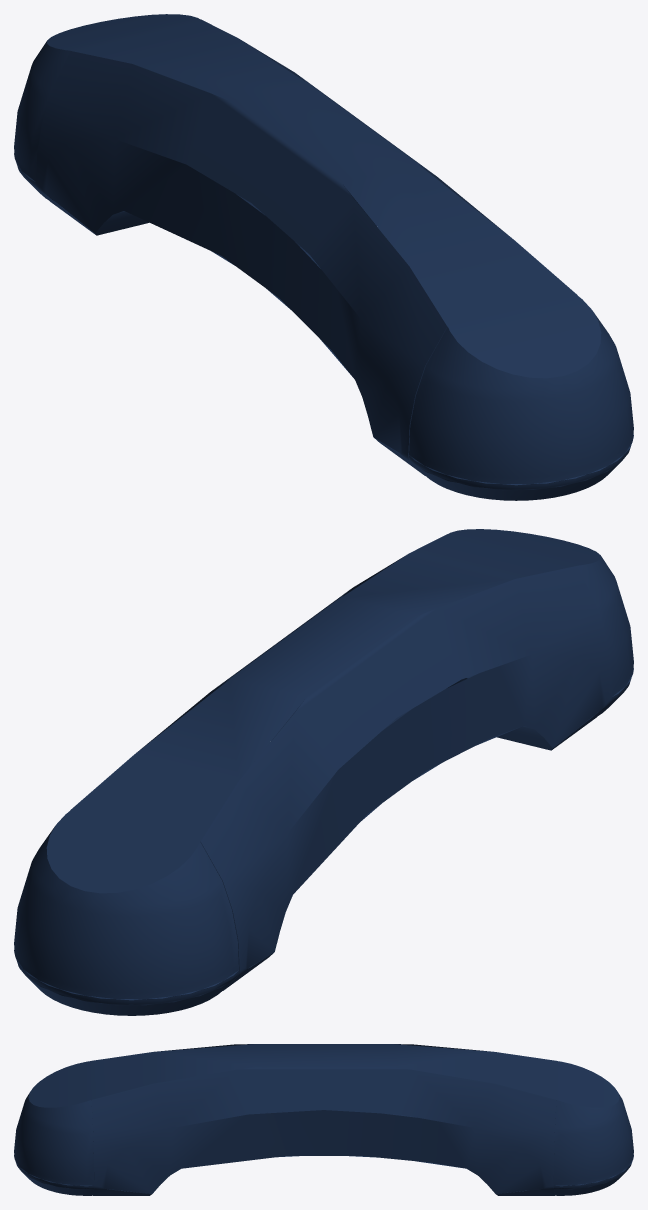
The model's file is LWA46_Link2.dae.
3 renders of one model, top to bottom at view 1: azimuth 30°, elevation 25°; view 2: azimuth 150°, elevation 25°; view 3: azimuth 270°, elevation 25°, orthographic. The views are drawn at different scales.
Parts seen in each view (by area): view 1: Link2; view 2: Link2; view 3: Link2.
Boxes of the visible parts, x1,y1,x2,y2 form: Link2: [14, 14, 633, 500]; Link2: [14, 529, 633, 1015]; Link2: [14, 1044, 633, 1195].
Size of the model in its own units: 0.1071 by 0.457 by 0.0931.
